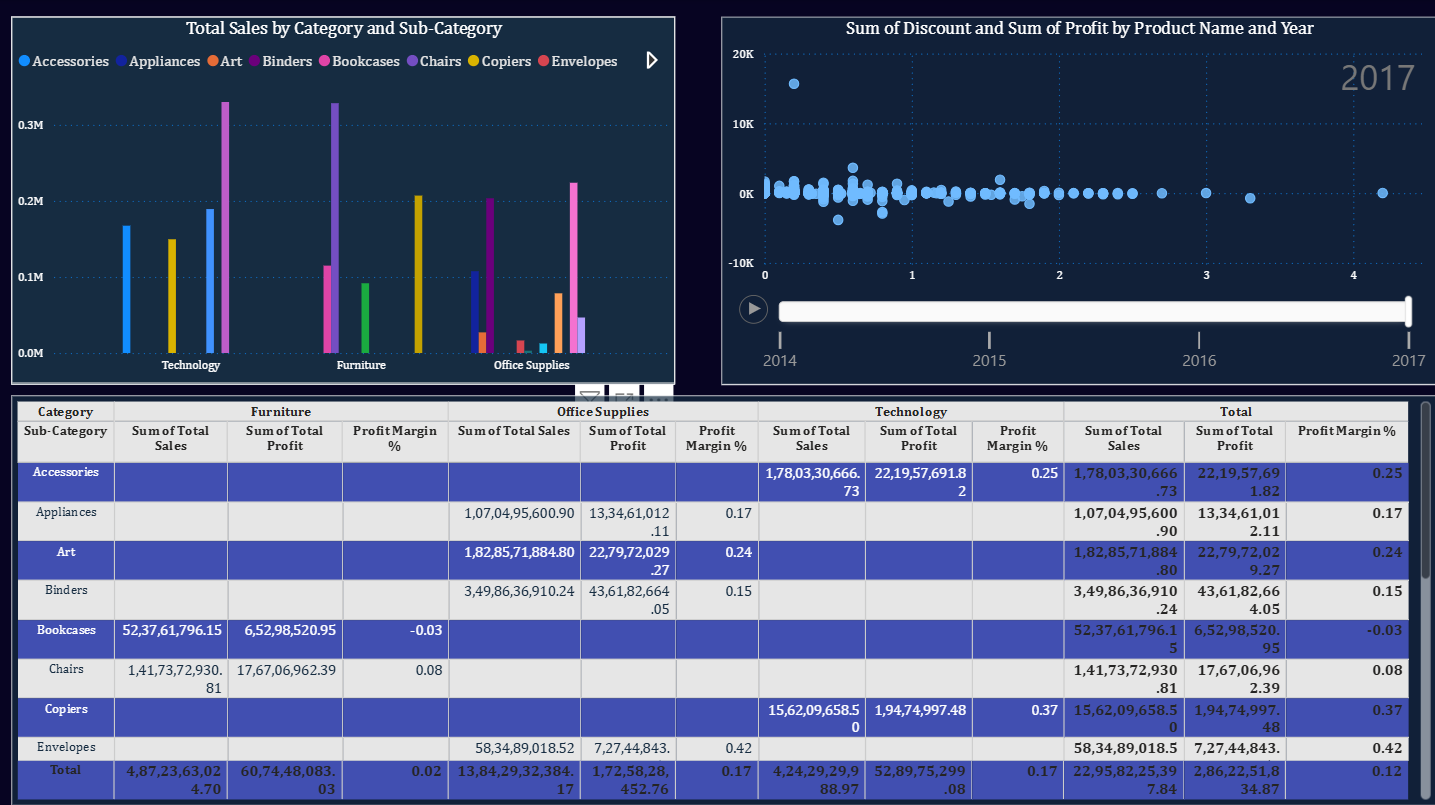

The dashboard page shown, as its layout file describes it:
{"tool":"powerbi","page":{"name":"Page 3","canvas":[1280,720],"ordinal":2},"visuals":[{"type":"clusteredColumnChart","fields":{"Category":["Superstore.Category"],"Series":["Superstore.Sub-Category"],"Y":["#Measures.Total Sales"]},"box":[9.5,15.5,591.2,327.8],"z":0},{"type":"scatterChart","fields":{"X":["Sum(Superstore.Discount)"],"Y":["Sum(Superstore.Profit)"],"Category":["Superstore.Product Name"],"Play":["Superstore.Year"]},"box":[642.5,15.5,637.7,327.8],"z":1000},{"type":"pivotTable","fields":{"Rows":["Superstore.Product Name","Superstore.Sub-Category"],"Columns":["Superstore.Category"],"Values":["Sum(Superstore.Total Sales)","Sum(Superstore.Total Profit)","#Measures.Profit Margin %"]},"box":[9.8,353.4,1270.5,366],"z":2000}]}

Visuals, with their boxes in screenshot pixels (x1, y1, x2, y2), scaled from the page's 1280x720 canvas onto the 1435x805 screenshot:
clusteredColumnChart - Superstore.Category x Superstore.Sub-Category: 11, 17, 673, 384
scatterChart - Sum(Superstore.Discount) x Sum(Superstore.Profit): 720, 17, 1434, 384
pivotTable - Superstore.Product Name x Superstore.Sub-Category: 11, 395, 1434, 804
